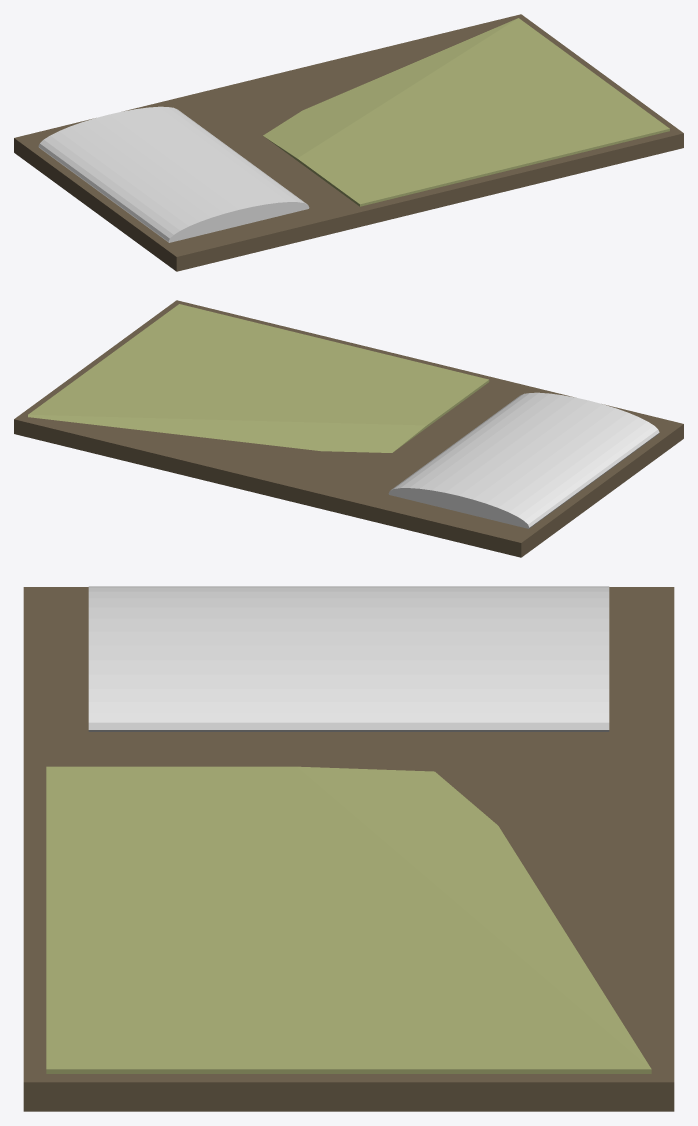
The model's file is bed.fbx.
3 renders of one model, top to bottom at view 1: azimuth 30°, elevation 25°; view 2: azimuth 150°, elevation 25°; view 3: azimuth 270°, elevation 25°, orthographic. The views are drawn at different scales.
Parts seen in each view (by area): view 1: Cube.002, Cube, Cylinder.001; view 2: Cube.002, Cube, Cylinder.001; view 3: Cube.002, Cube, Cylinder.001.
Boxes of the visible parts, box(x1,y1,x2,y2) form: Cube.002: box(263, 18, 669, 206); Cube: box(14, 14, 683, 271); Cylinder.001: box(38, 106, 309, 242); Cube.002: box(28, 304, 489, 452); Cube: box(14, 300, 683, 557); Cylinder.001: box(388, 392, 659, 528); Cube.002: box(46, 766, 651, 1073); Cube: box(23, 587, 674, 1111); Cylinder.001: box(88, 586, 609, 731).
Size of the model in its own units: 360 by 20.91 by 200.
